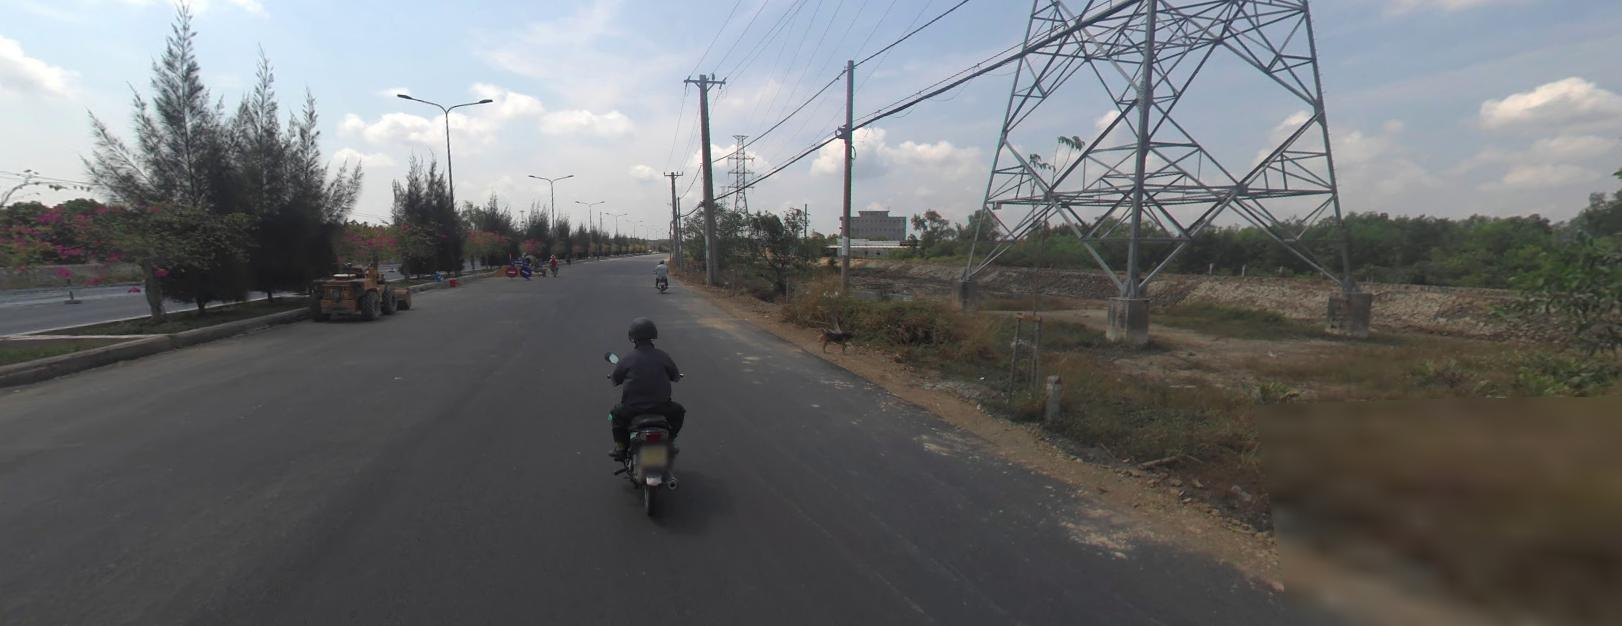Cam nguoc chieu: (505, 264, 517, 275)
Hieu lenh: (519, 264, 531, 276)
